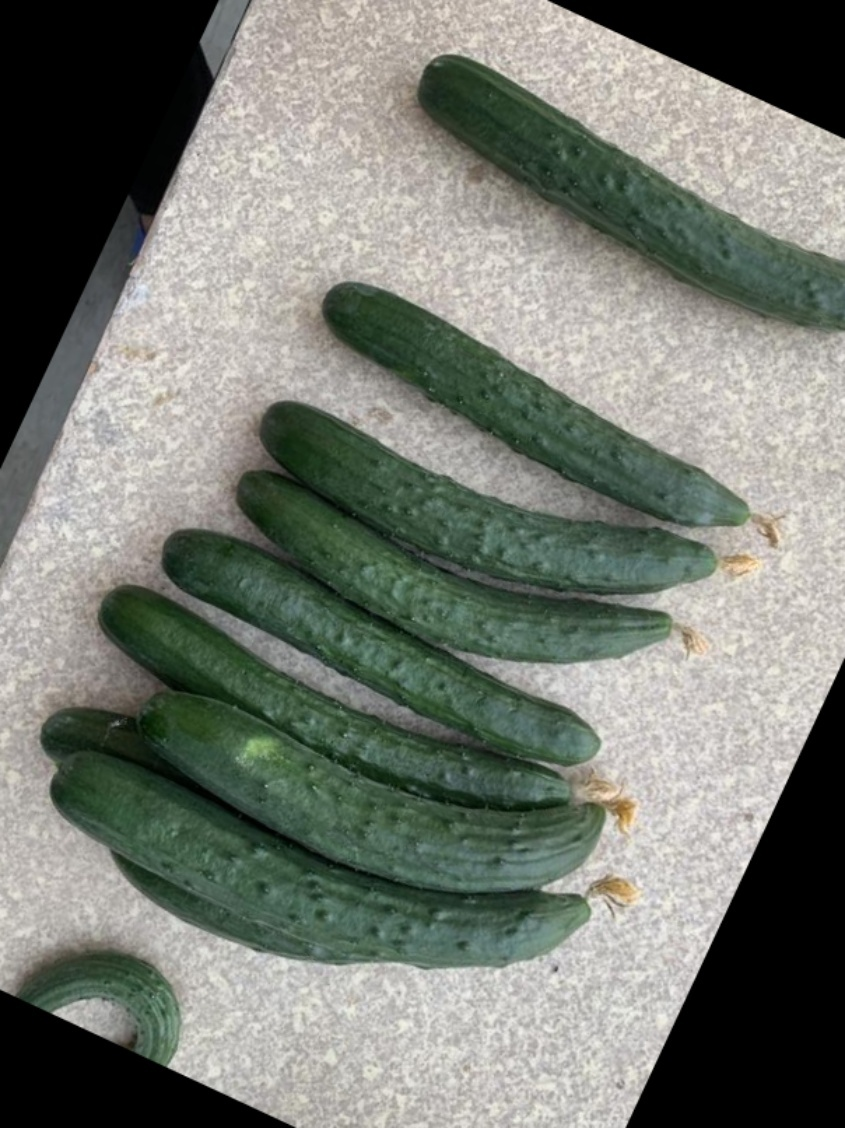mature: (48, 766, 589, 967)
